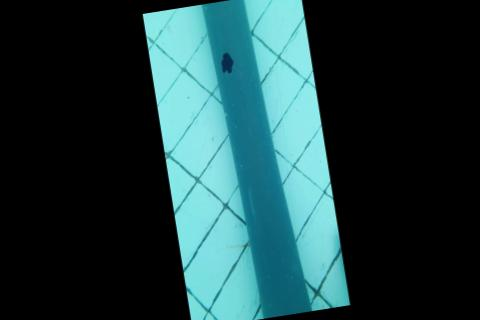kebocoran: (219, 50, 236, 74)
